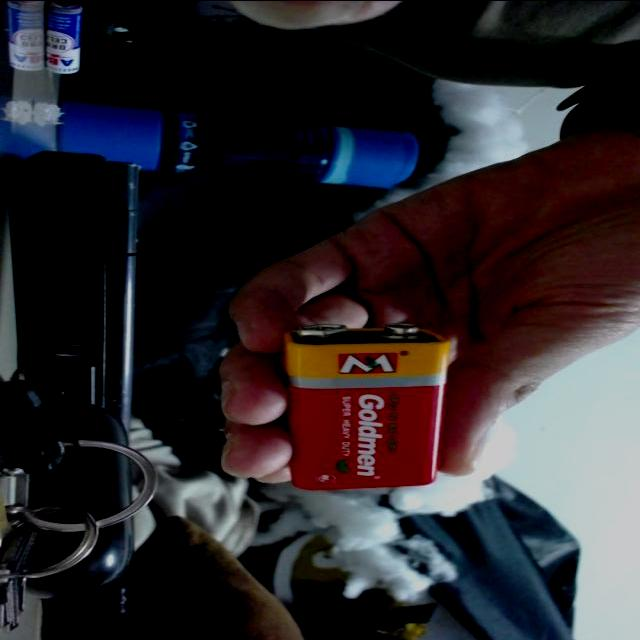9V: (278, 310, 468, 498)
